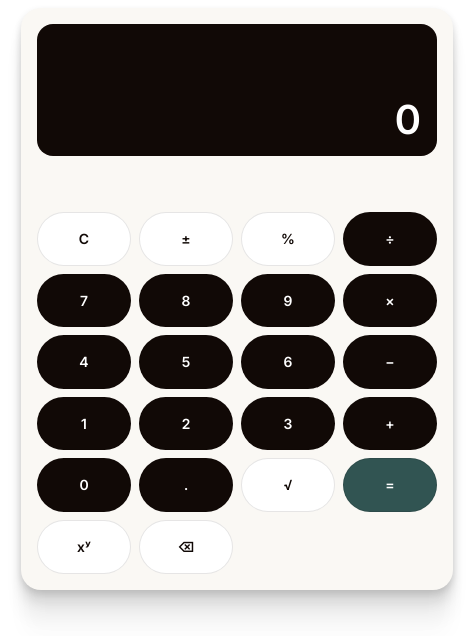
Test: Calculator component › performs a calculation and displays result
Step 1. Click the button "1" → (84, 424), box [37,397,131,450]
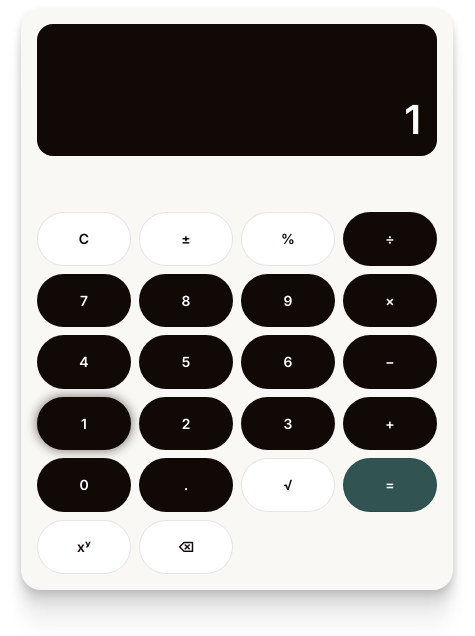
Step 2. Click the button "2" → (186, 424), box [139,397,233,450]
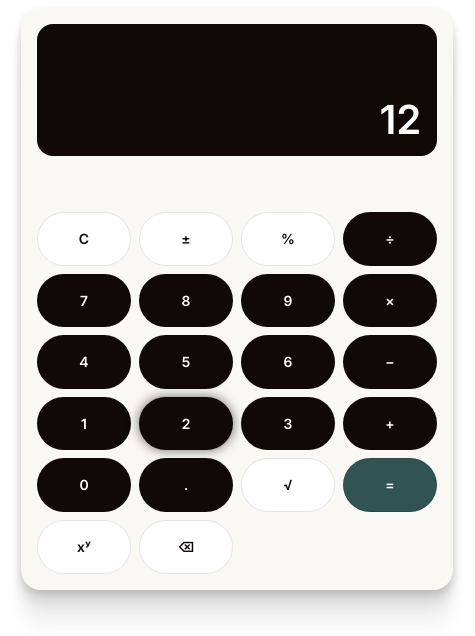
Step 3. Click the button named "Add" → (390, 424), box [343,397,437,450]
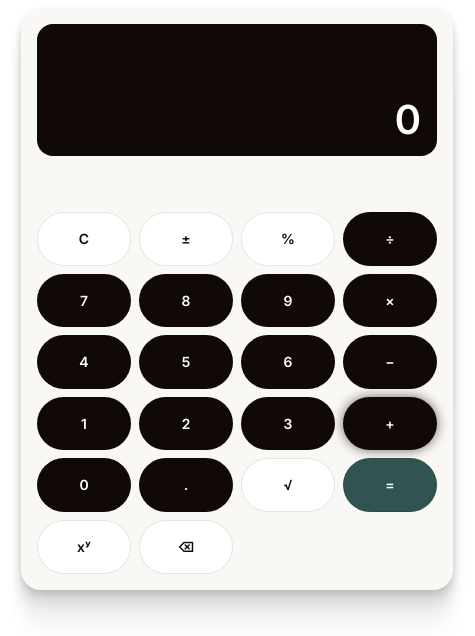
Step 4. Click the button "3" → (288, 424), box [241,397,335,450]
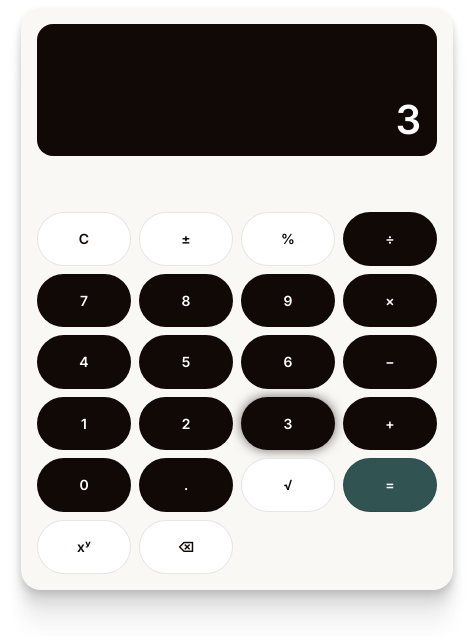
Step 5. Click the button "0" → (84, 485), box [37,458,131,512]
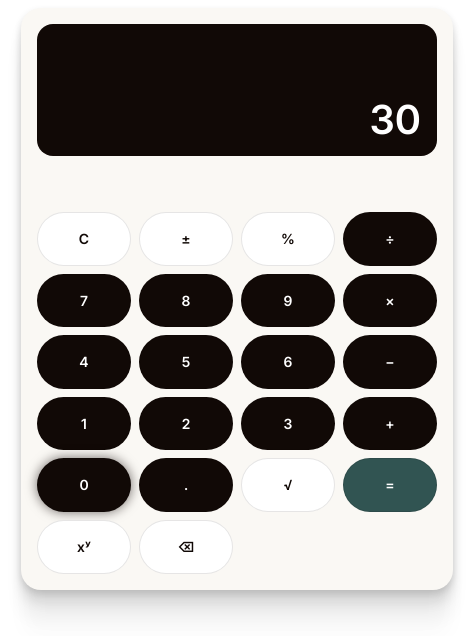
Step 6. Click the button named "Equals" → (390, 485), box [343,458,437,512]
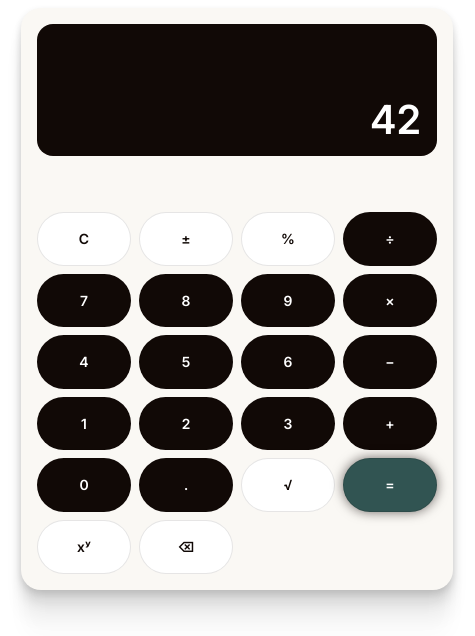
Now the message named "Calculator display" reads "42", box [370,95,421,144]
